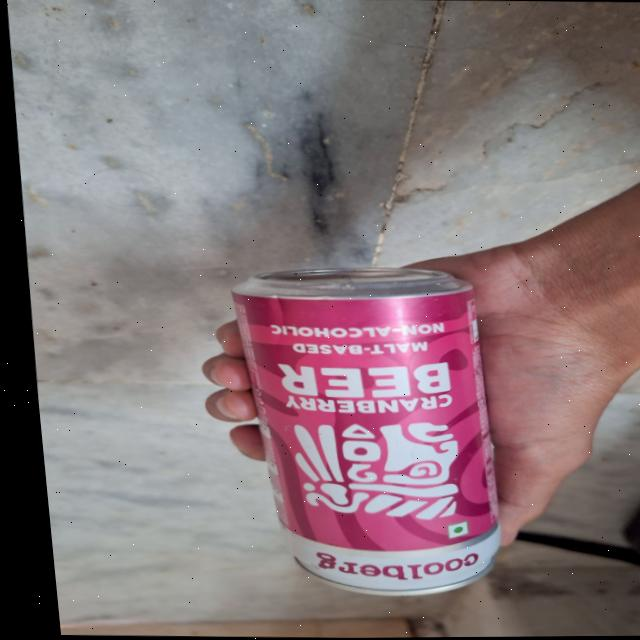Coolberg: (209, 276, 507, 595)
